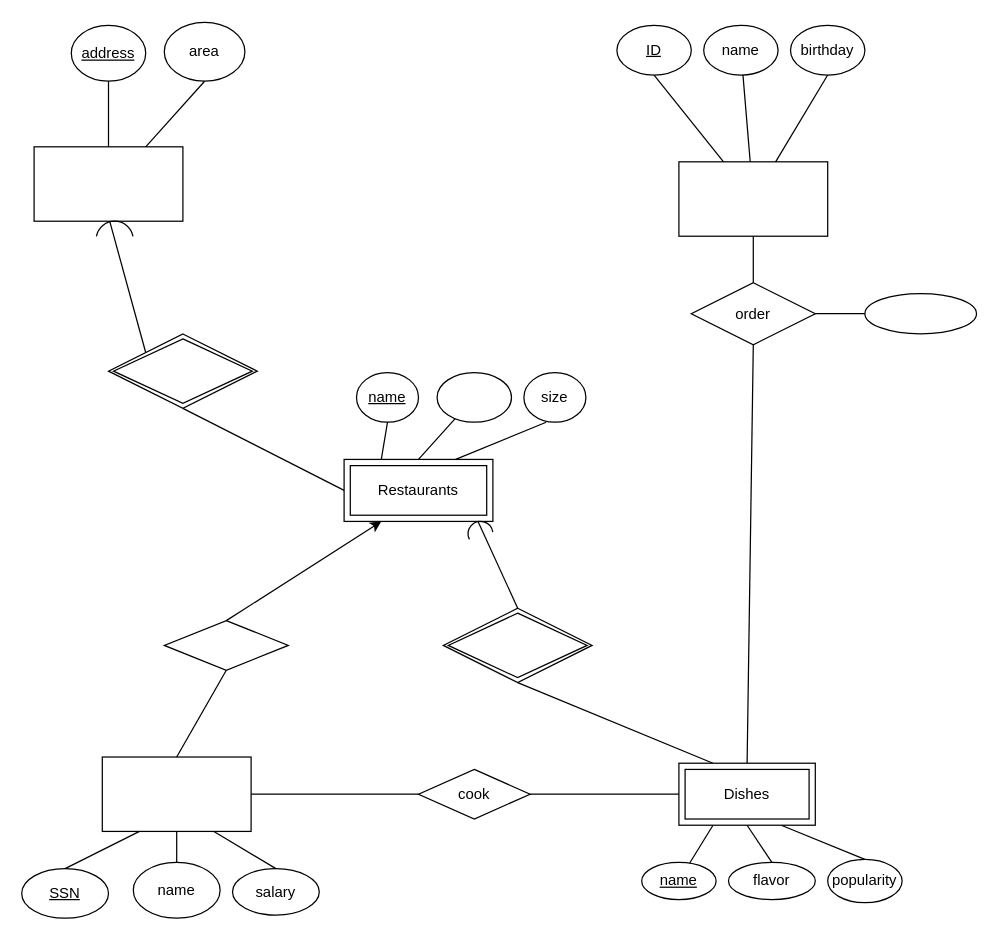
This 998x940 diagram has some shape labels left out. The box of each missing label's shape, as (x1, y1, x2, y2) in pixels:
Buildings: (33, 146, 183, 221)
Chefs: (101, 756, 251, 831)
Customers: (678, 161, 828, 236)
date: (864, 292, 976, 334)
employee: (163, 619, 288, 670)
locate: (107, 333, 257, 408)
offer: (442, 607, 592, 683)
type: (436, 371, 512, 422)
